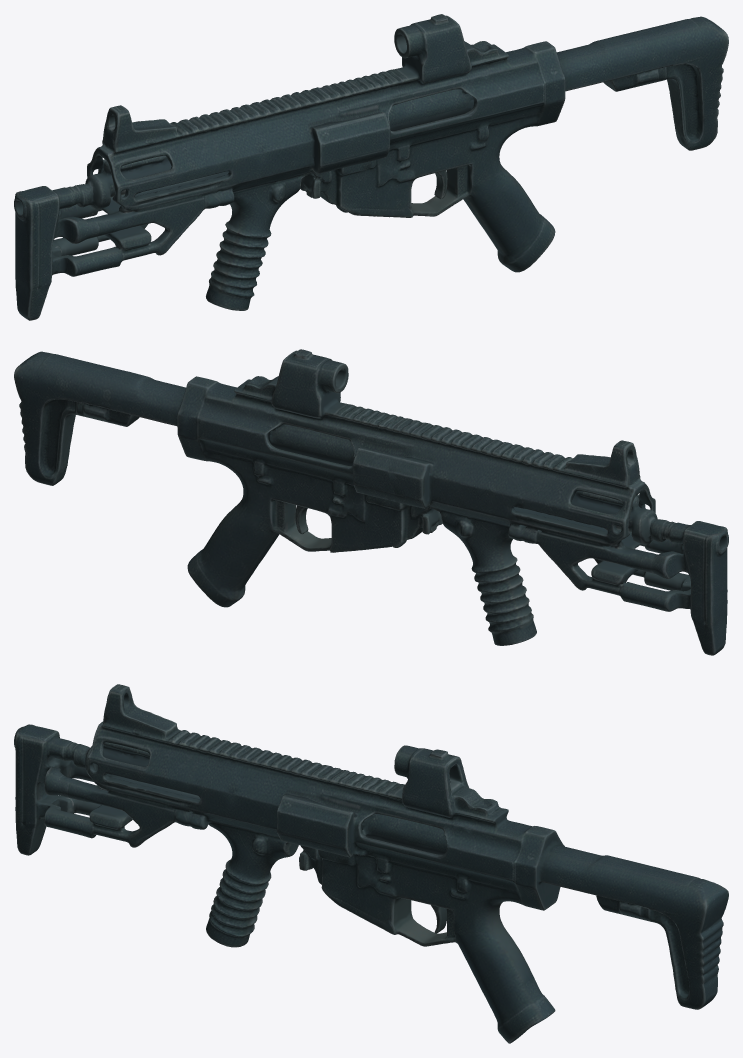
File: Meshy_AI_Realistic_futuristic__1027063641_texture.glb
3 renders of one model, top to bottom at view 1: azimuth 30°, elevation 25°; view 2: azimuth 150°, elevation 25°; view 3: azimuth 330°, elevation 25°, orthographic.
Size of the model in its own units: 1.9 by 0.7054 by 0.2074.
Materials: 1 (1 with a texture image).
